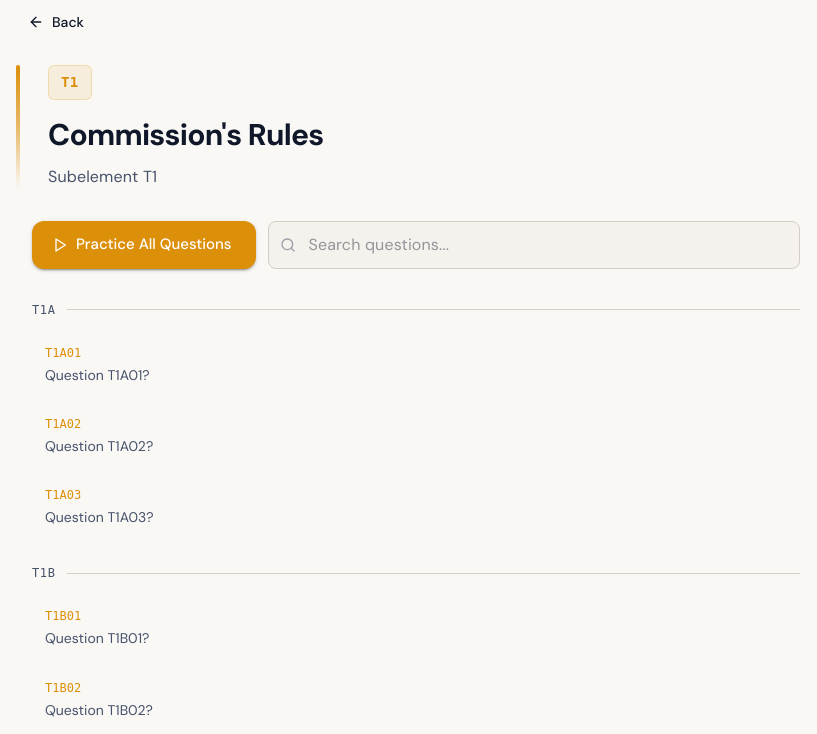
QuestionListView › Search › shows no results message when search has no matches
Type "xyz123nonexistent" into the field with placeholder "Search questions..." at [546, 244], box [308, 228, 783, 260]
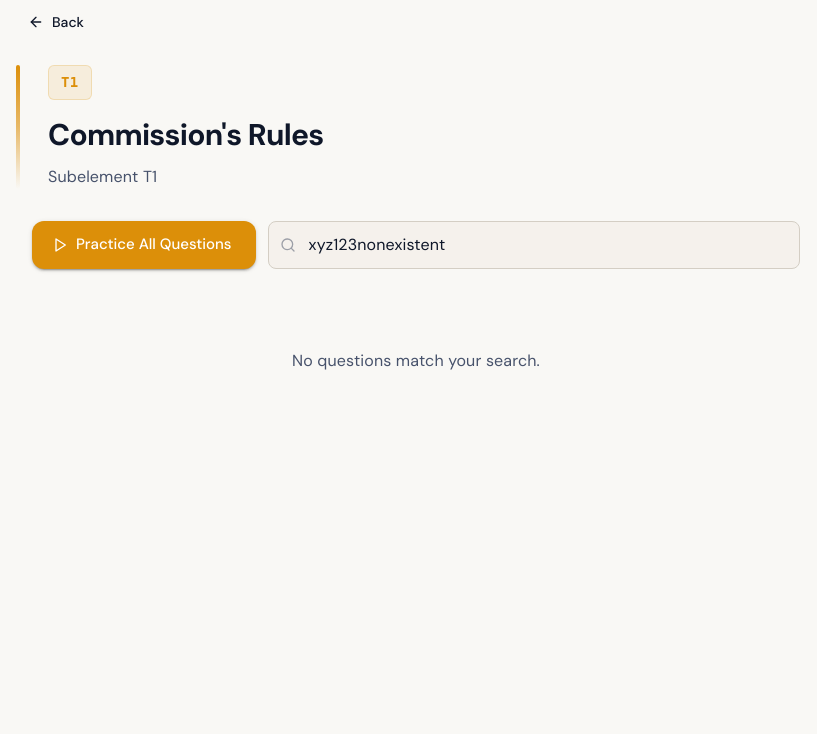
Result: the text "No questions match your search." is shown at [292, 350, 540, 370]
